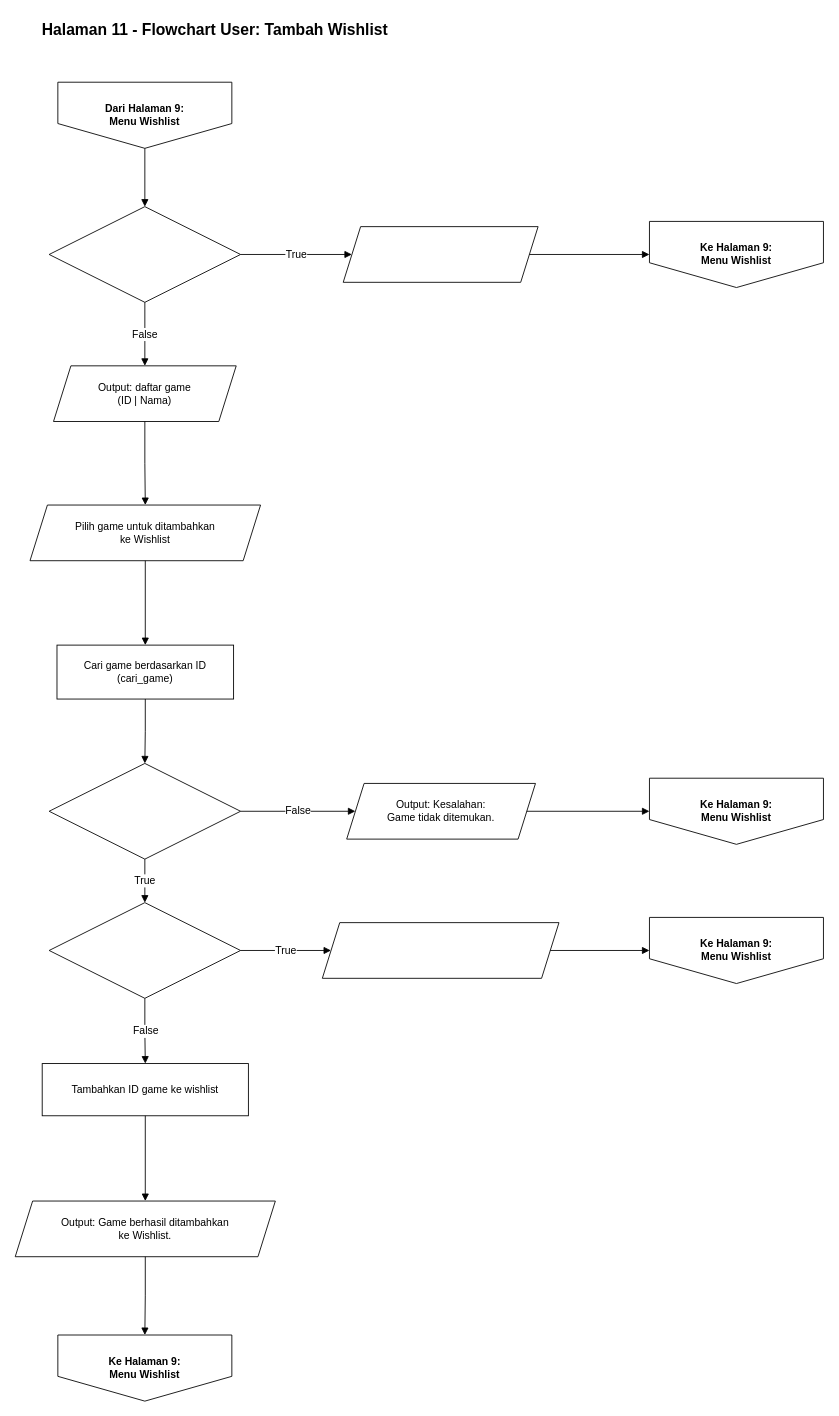
Some shapes in this 839 by 1416 pixel diagram are drawn without their labels. Each missing label, with the centre of its shape:
Game ditemukan?: the point at 144,811
Game sudah ada di Wishlist?: the point at 144,950
Katalog game kosong?: the point at 144,254
Output: Belum ada game dalam katalog.: the point at 440,254
Output: Kesalahan: Game sudah terdaftar di Wishlist.: the point at 440,950
